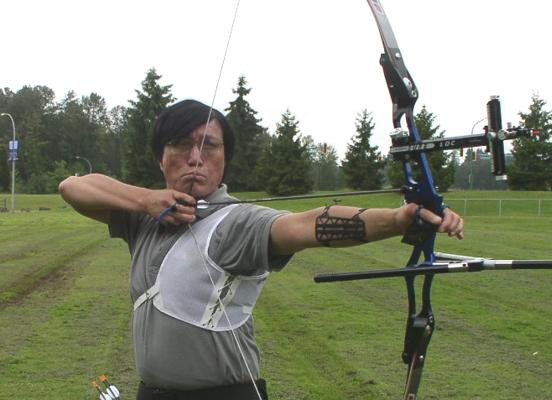person: (61, 99, 471, 400)
